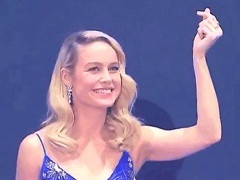oneheart: (185, 6, 227, 48)
